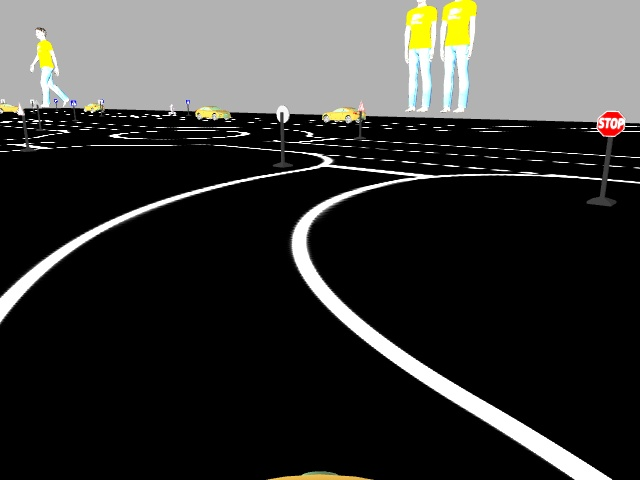Stop: (595, 108, 625, 136)
